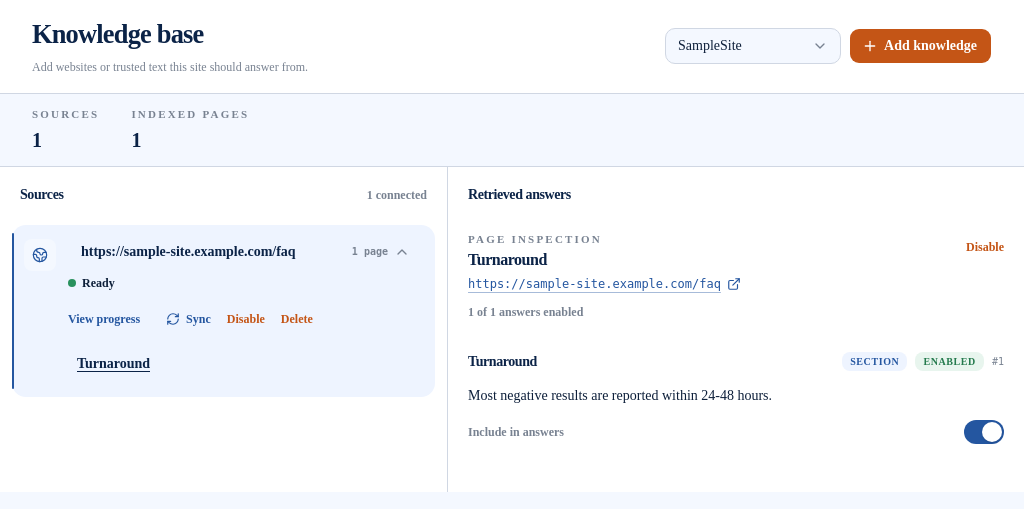
it: knowledge console › lists the timing page and disable persists enabled false
Step 1. Click the button "Turnaround" → (114, 364), box [68,348,423,382]
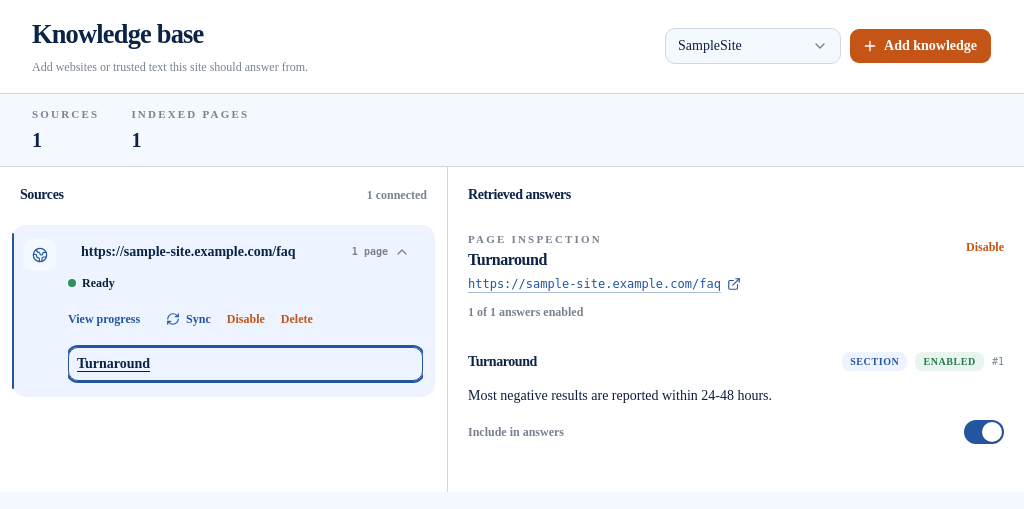
Step 2. Click the button with aria-label "Disable page" → (985, 248), box [966,232,1004,264]
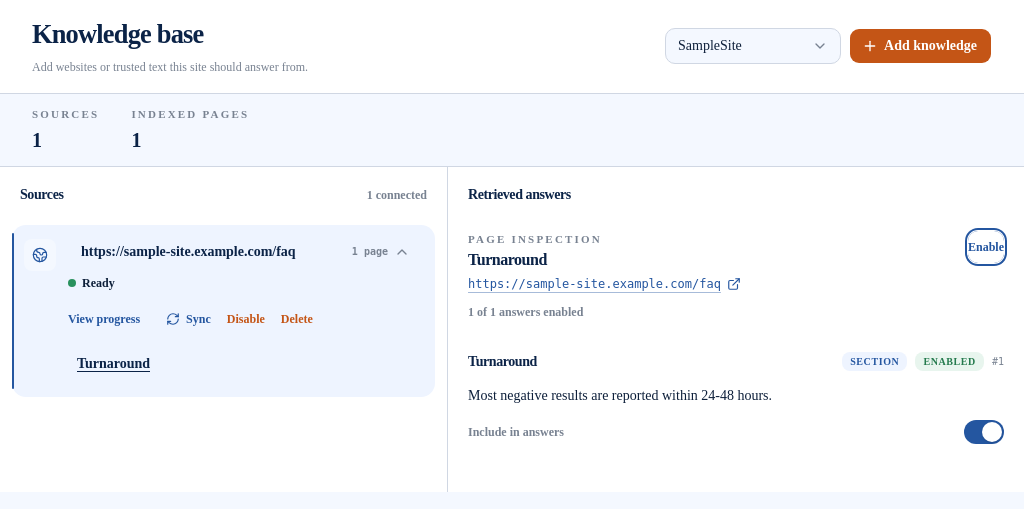
expect the button with aria-label "Enable page" is shown: met, box [968,232,1004,264]
